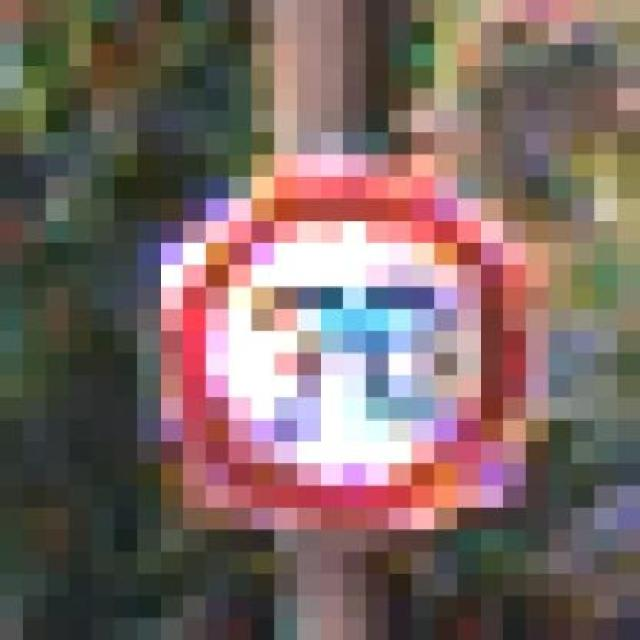forb_speed_over_70: (162, 177, 524, 528)
